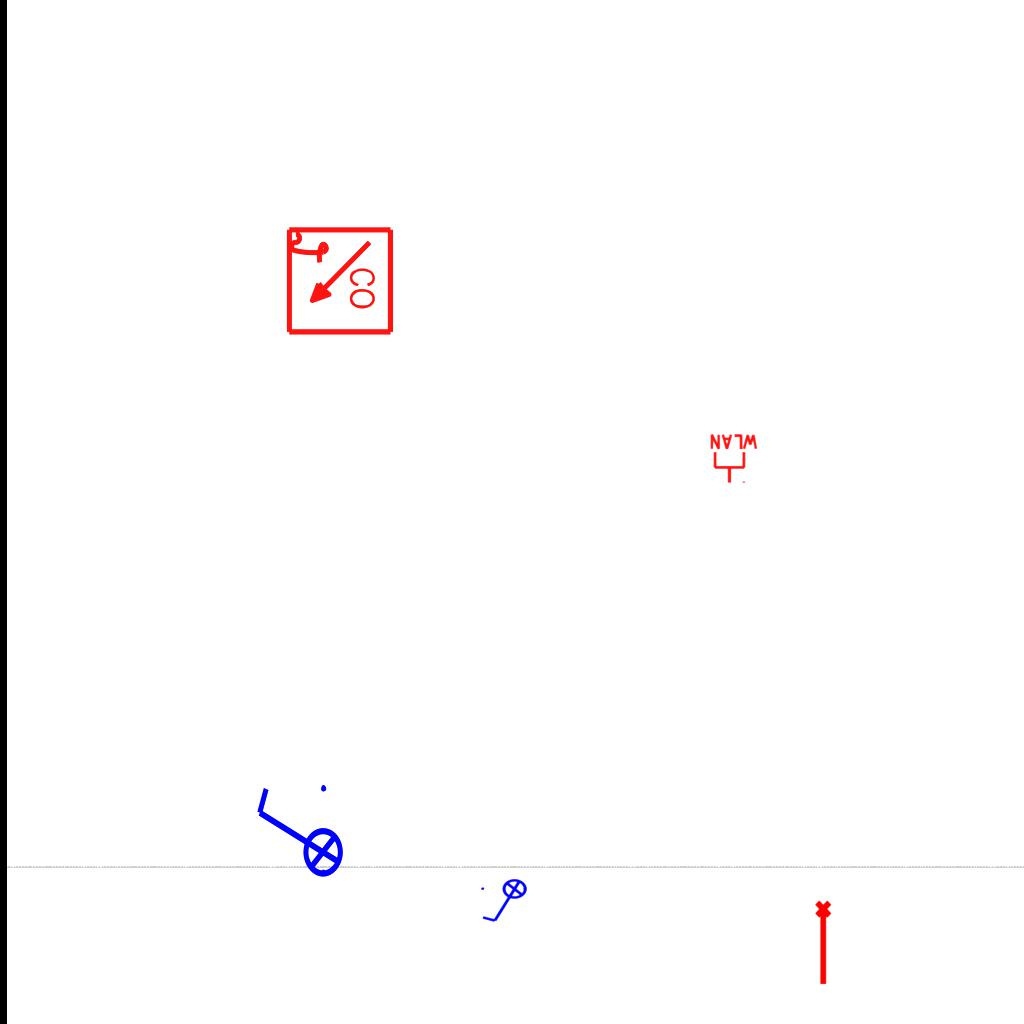ASR_Ansaugoeffnung: (813, 899, 836, 987)
Ausschalter_beleuchtet: (249, 779, 345, 891), (478, 878, 534, 926)
ROA_Rauchmelder_optisch_mit_Signalgeber_(Sockelsirene): (282, 225, 395, 338)
WLAN: (708, 433, 760, 485)
